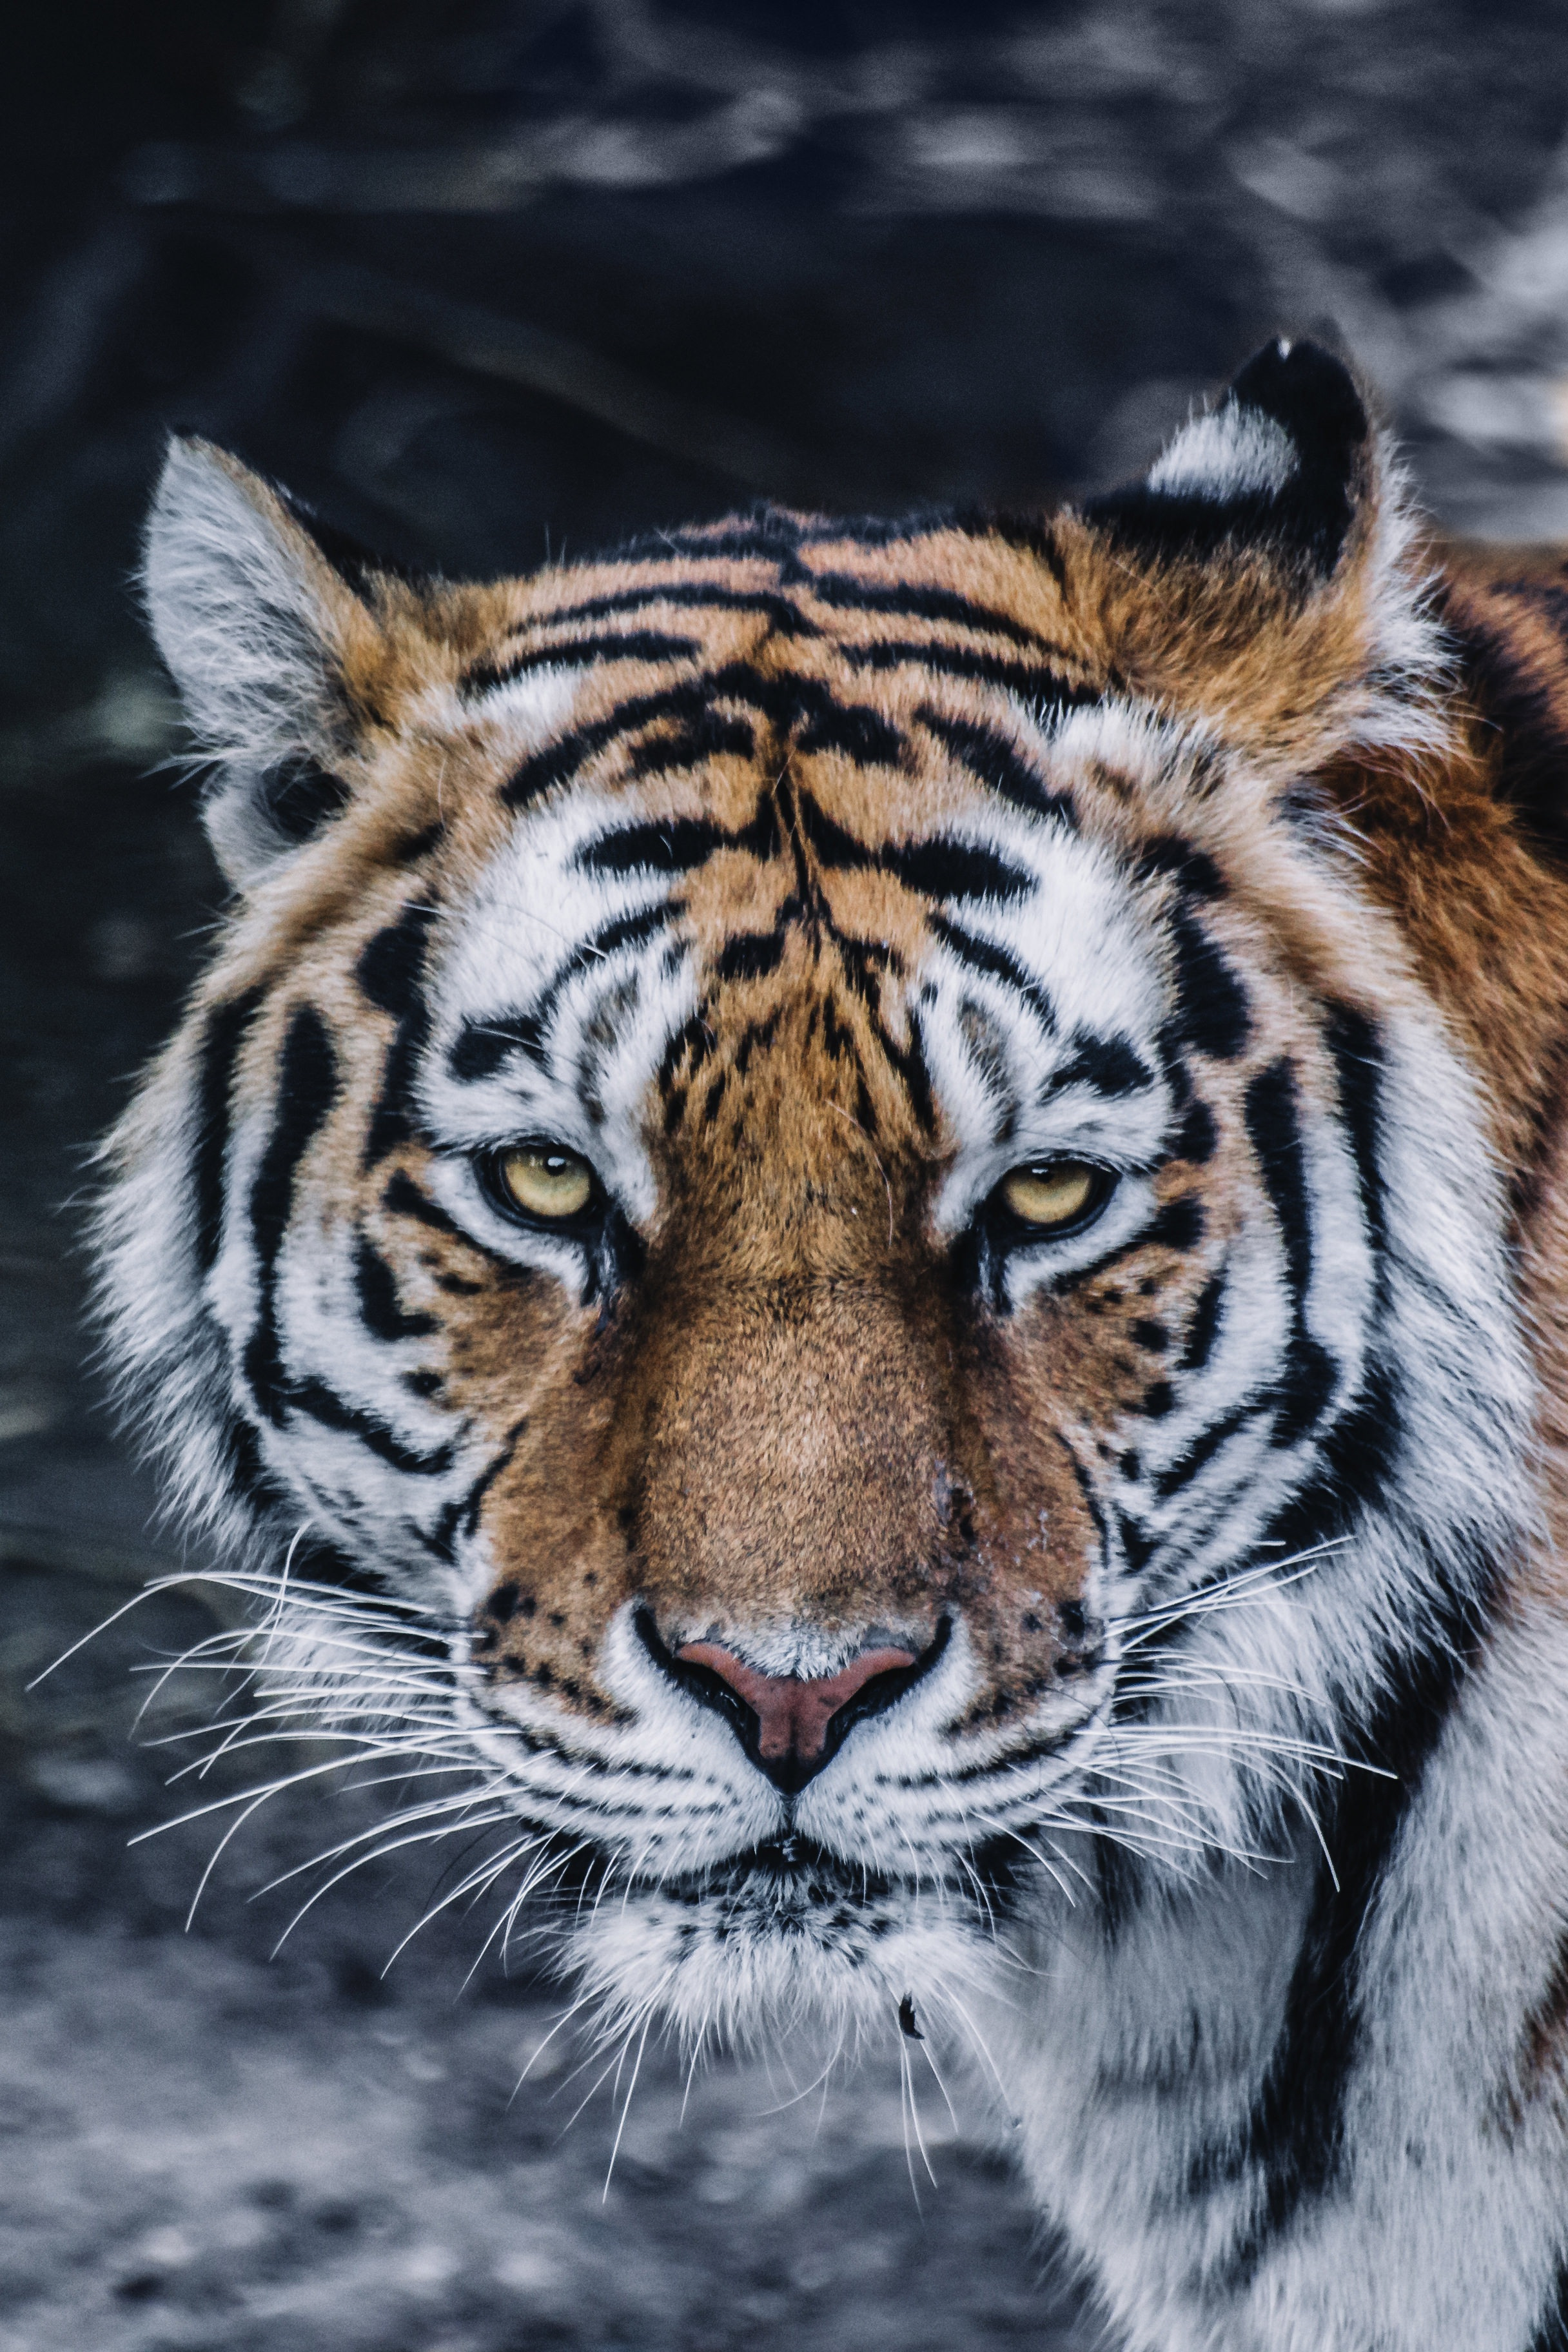tiger: (38, 185, 1568, 2292)
